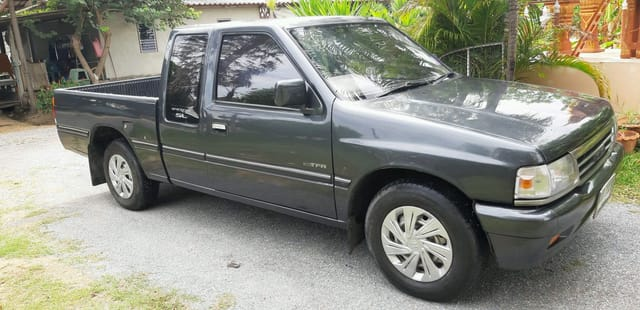pickup: (51, 13, 626, 299)
